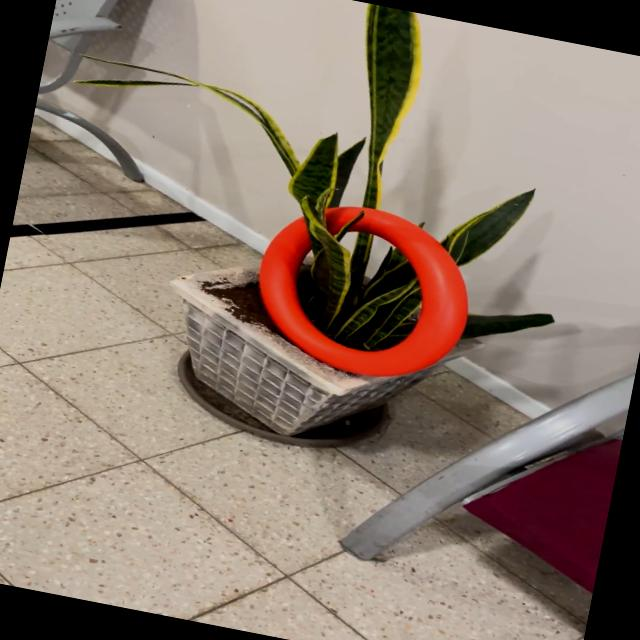note: (240, 188, 488, 395)
